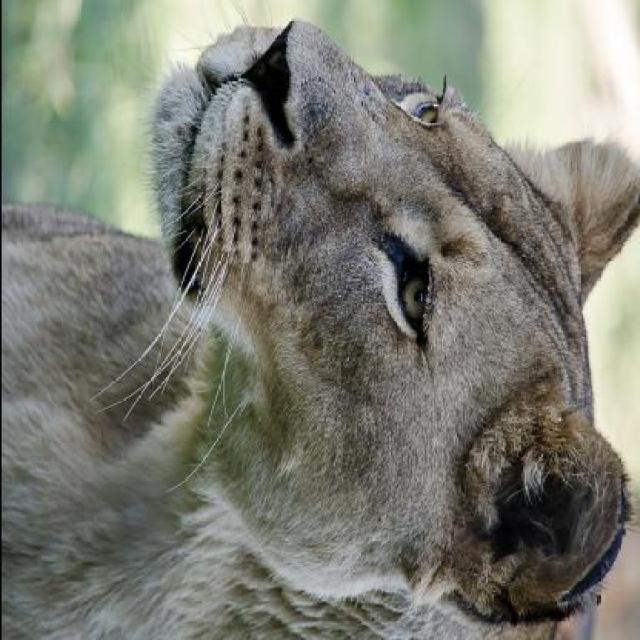Lion: (1, 2, 637, 629)
